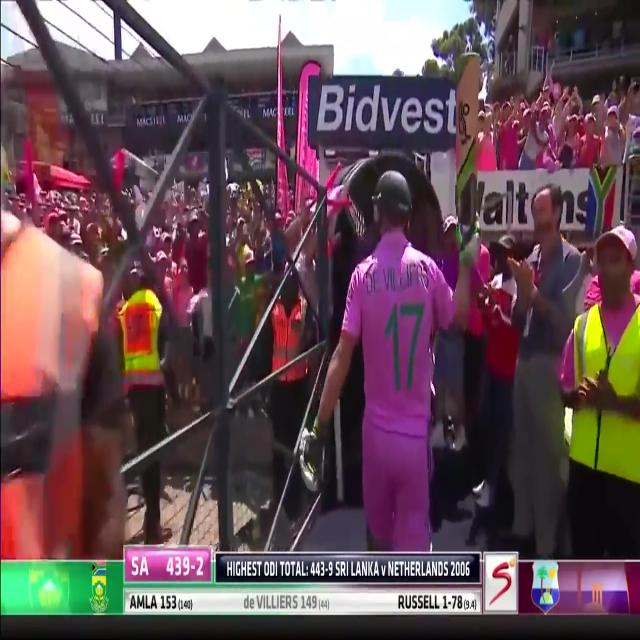Ball: (327, 170, 453, 556)
